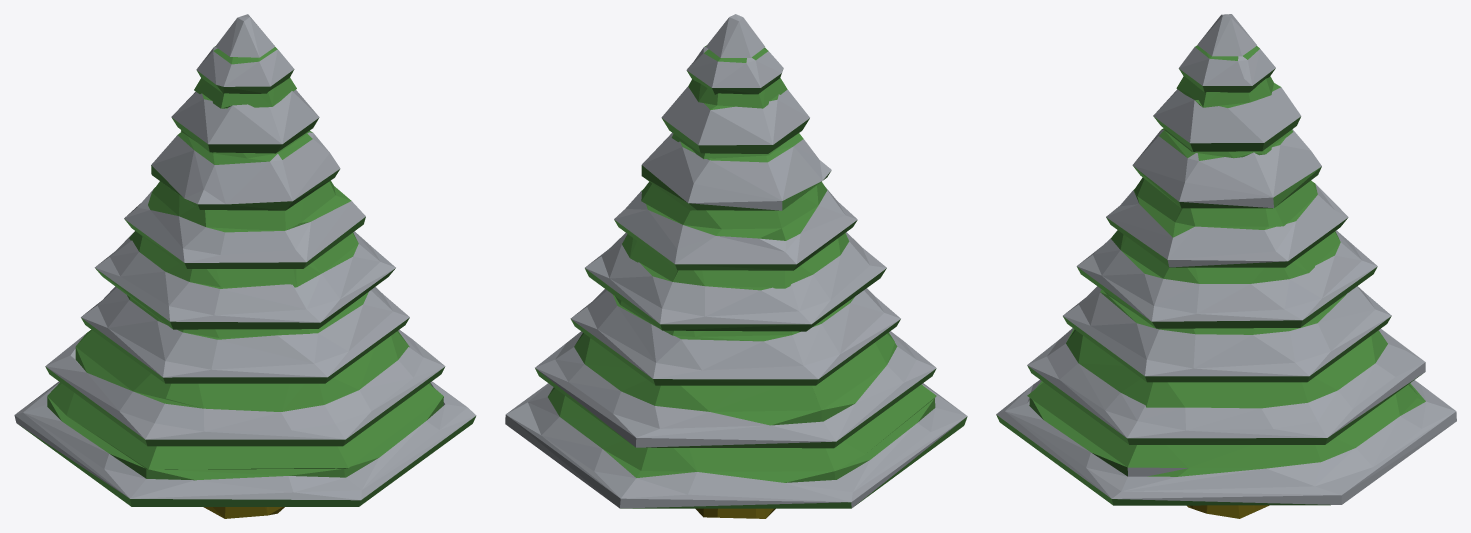
Rendered from tree2_2.fbx.
3 views of the same model, side by side, from view 1: azimuth 30°, elevation 25°; view 2: azimuth 150°, elevation 25°; view 3: azimuth 270°, elevation 25° (orthographic).
Visible parts, largest first — view 1: Cylinder.004; view 2: Cylinder.004; view 3: Cylinder.004.
Part boxes in pixels (x1=…): Cylinder.004: x1=14, y1=14, x2=476, y2=518; Cylinder.004: x1=505, y1=14, x2=967, y2=518; Cylinder.004: x1=996, y1=14, x2=1456, y2=518.
Size of the model in its own units: 297 by 399 by 343.
